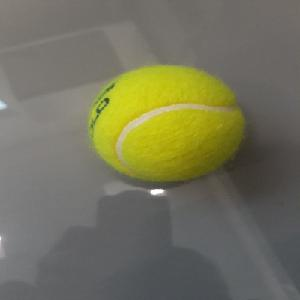Ball: (86, 64, 247, 184)
